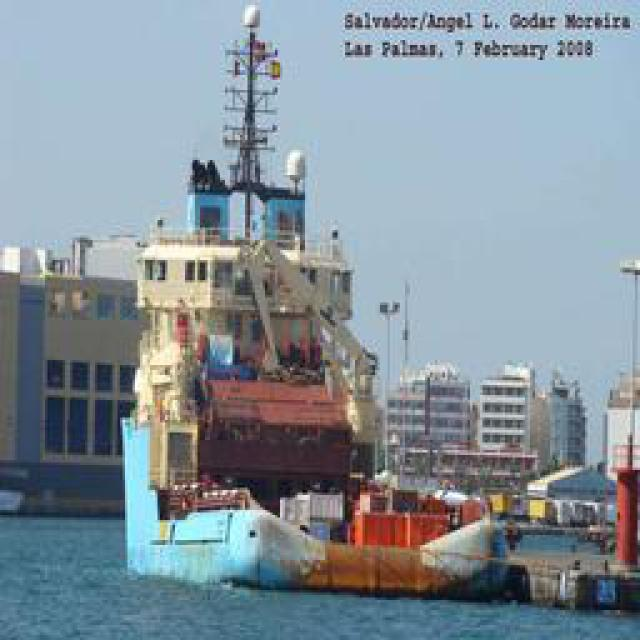Ship: (111, 135, 526, 603)
